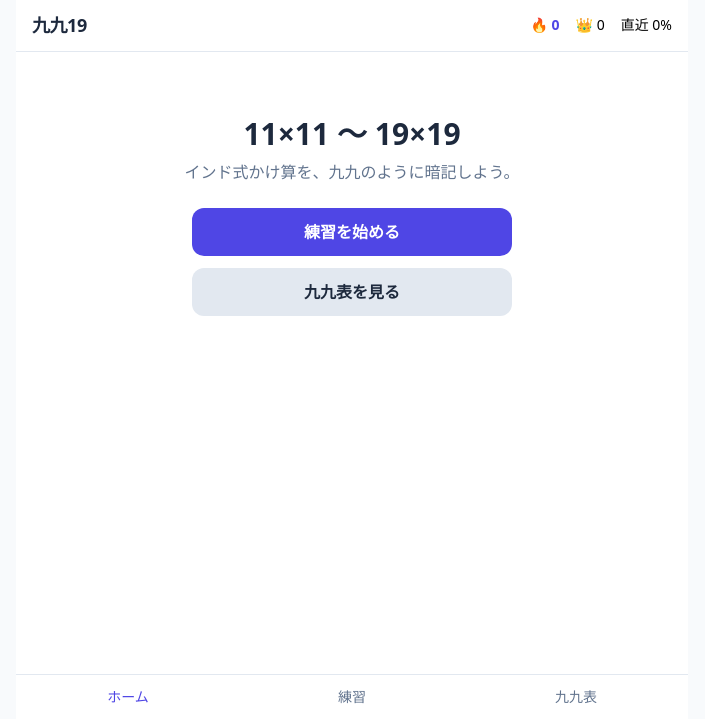
Test case: App (統合) › TopMenu「九九表を見る」で九九表画面に遷移する
Click the button "九九表を見る" at (352, 292), box [192,268,512,316]
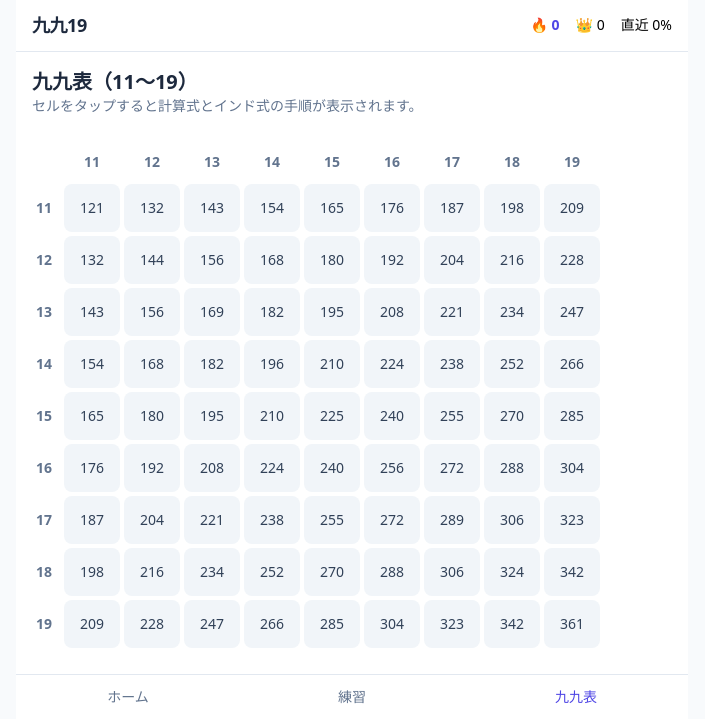
Now the heading "九九表（11〜19）" is shown, box [32,68,198,95]
Now the button "121" is shown, box [64,184,120,232]
Now the button "361" is shown, box [544,600,600,648]
